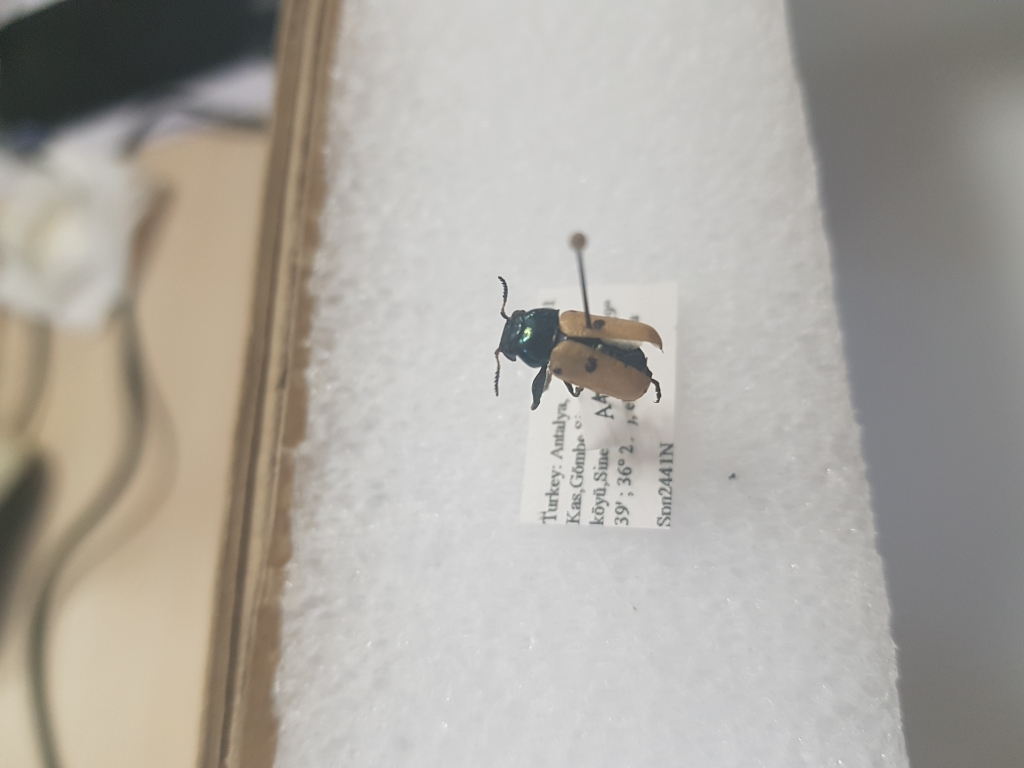Labidostomis_maculipennis: (487, 276, 673, 416)
